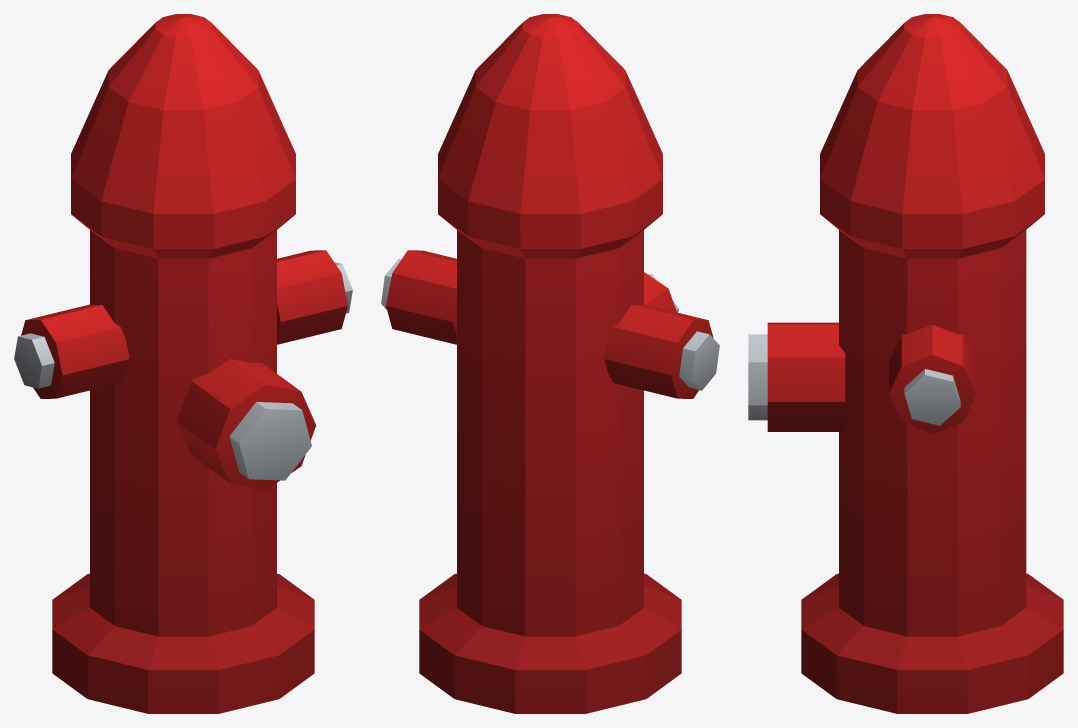
Rendered from fire_hydrant_01.glb.
The picture shows the model from 3 angles, left to right: view 1: azimuth 30°, elevation 25°; view 2: azimuth 150°, elevation 25°; view 3: azimuth 270°, elevation 25°; orthographic projection.
Visible parts, largest first — view 1: fire_hydrant_01_LOD0; view 2: fire_hydrant_01_LOD0; view 3: fire_hydrant_01_LOD0.
Part boxes in pixels (x1=…): fire_hydrant_01_LOD0: x1=14, y1=14, x2=352, y2=713; fire_hydrant_01_LOD0: x1=381, y1=14, x2=719, y2=713; fire_hydrant_01_LOD0: x1=748, y1=14, x2=1063, y2=713.
Size of what is drawn, in the model's own units: 0.37 by 0.73 by 0.3252.
1 material, 1 textured.
